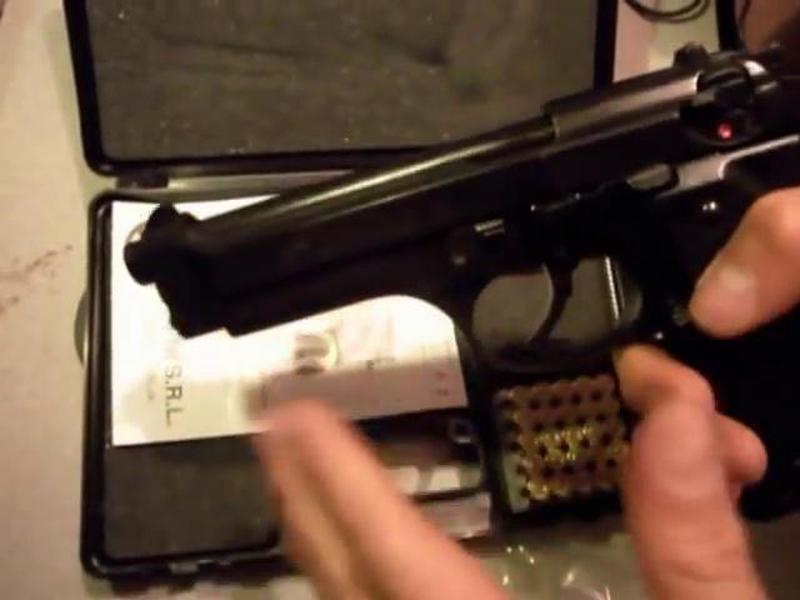Pistola: (106, 60, 800, 427)
